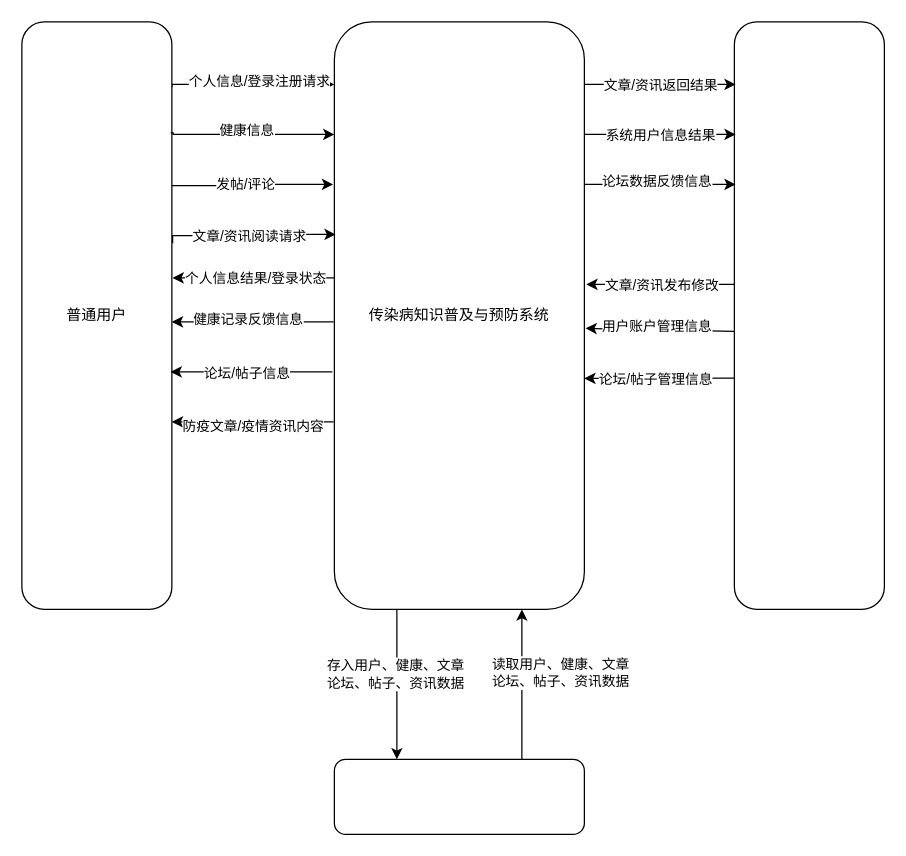
This 906x856 diagram has some shape labels left out. Each missing label, with the centre of its shape:
"系统数据库" goes at point (458, 796).
"系统管理员" goes at point (808, 315).
